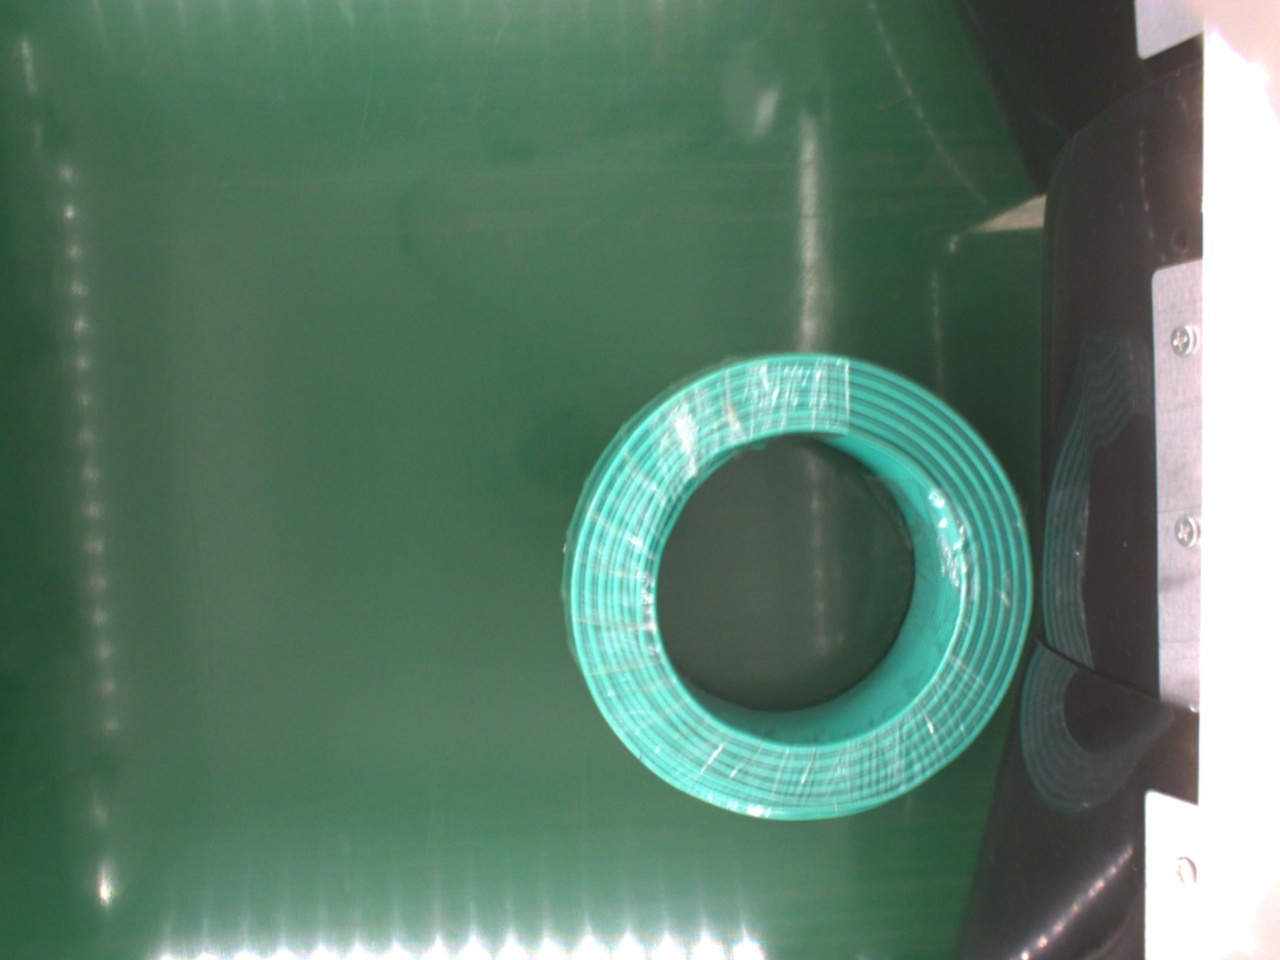green: (563, 351, 1031, 822)
